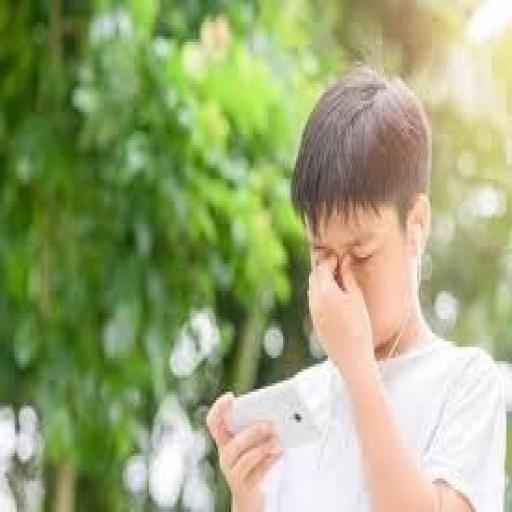texting: (203, 59, 508, 509)
